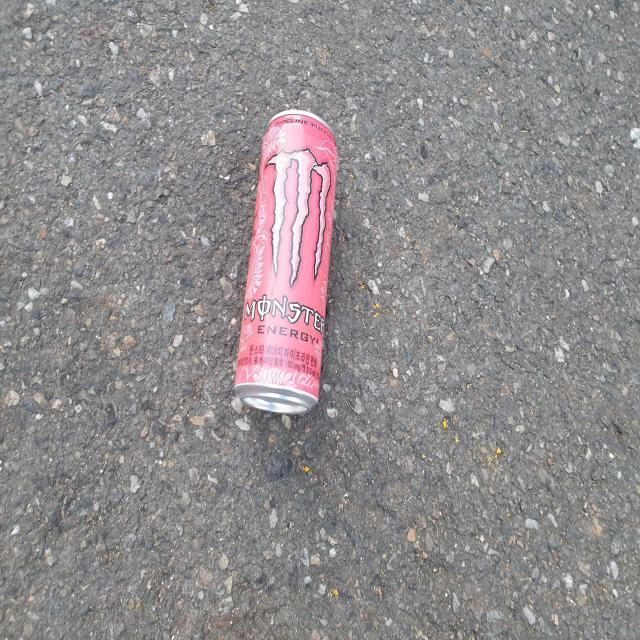can: (234, 109, 338, 414)
